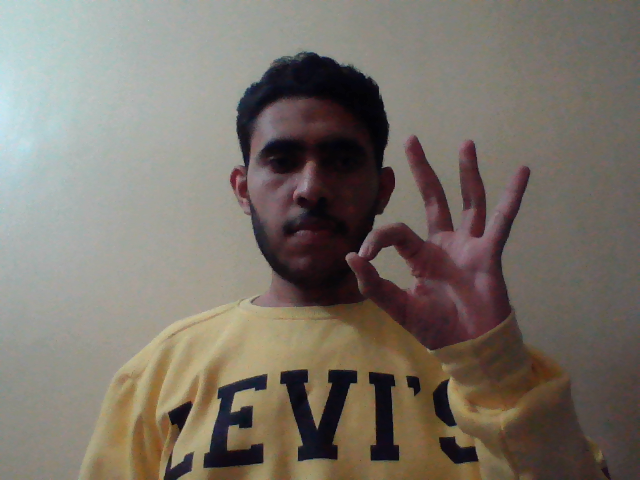F: (335, 133, 537, 363)
